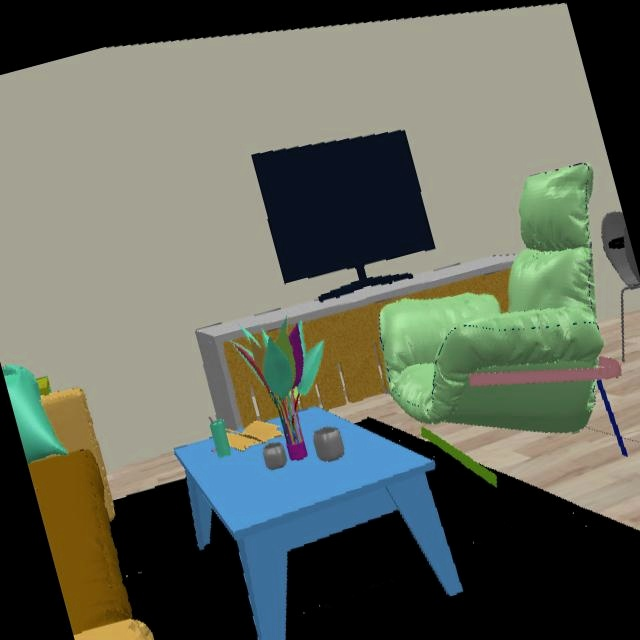chair: (599, 210, 640, 289)
monitor: (252, 131, 437, 285)
pillow: (1, 365, 65, 466)
sofa: (384, 165, 624, 434), (27, 387, 154, 640)
table: (173, 409, 464, 640)
